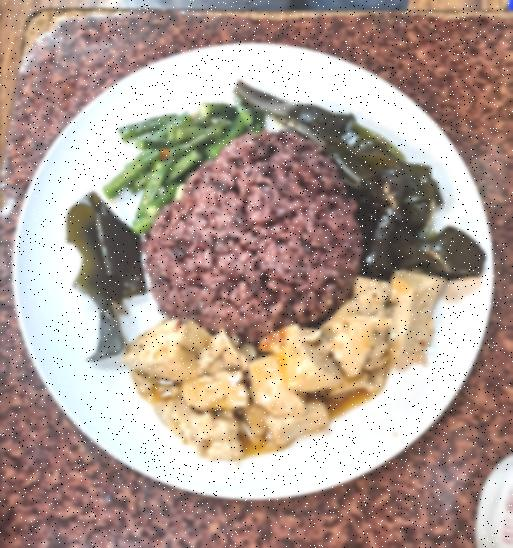plate: (4, 38, 513, 500)
purple rice: (147, 135, 356, 333)
side dish: (128, 269, 442, 461), (240, 77, 486, 283), (103, 93, 260, 230), (51, 189, 148, 362)
